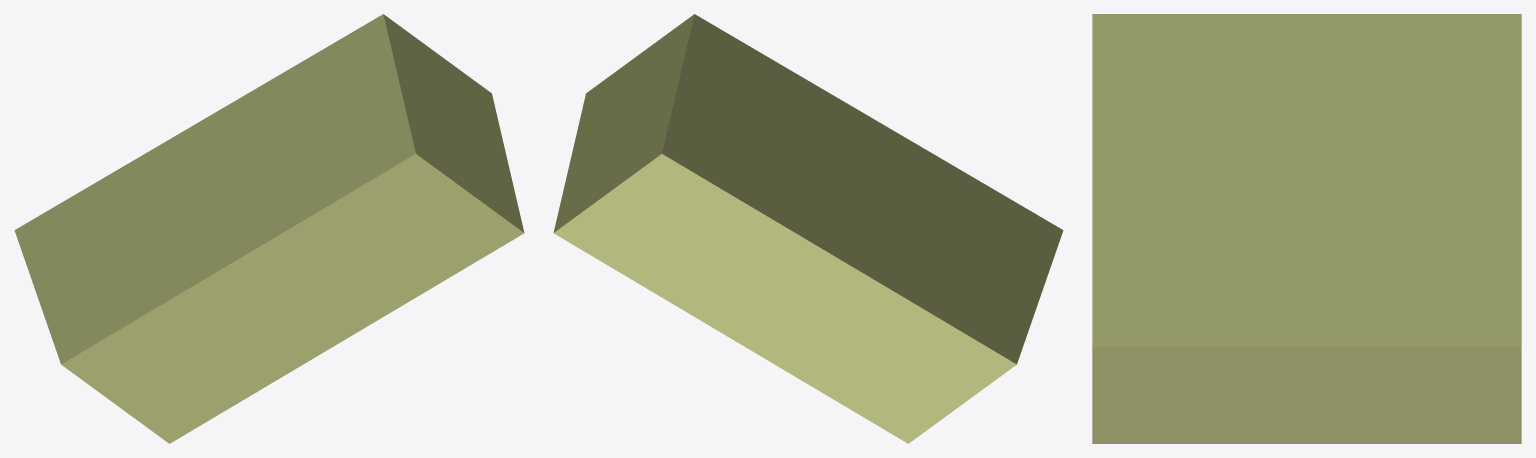
The picture shows the model from 3 angles, left to right: view 1: azimuth 30°, elevation 25°; view 2: azimuth 150°, elevation 25°; view 3: azimuth 270°, elevation 25°; orthographic projection. The views are drawn at different scales.
Visible parts, largest first — view 1: 0_1_0_0_1_0_2_0_1_3_0; view 2: 0_1_0_0_1_0_2_0_1_3_0; view 3: 0_1_0_0_1_0_2_0_1_3_0.
Part boxes in pixels (box(x1,y1,x2,y2)): 0_1_0_0_1_0_2_0_1_3_0: box(14, 14, 524, 443); 0_1_0_0_1_0_2_0_1_3_0: box(553, 14, 1063, 443); 0_1_0_0_1_0_2_0_1_3_0: box(1092, 14, 1521, 443).
Bounding box in the file's own units: 12.82 × 8.29 × 6.
